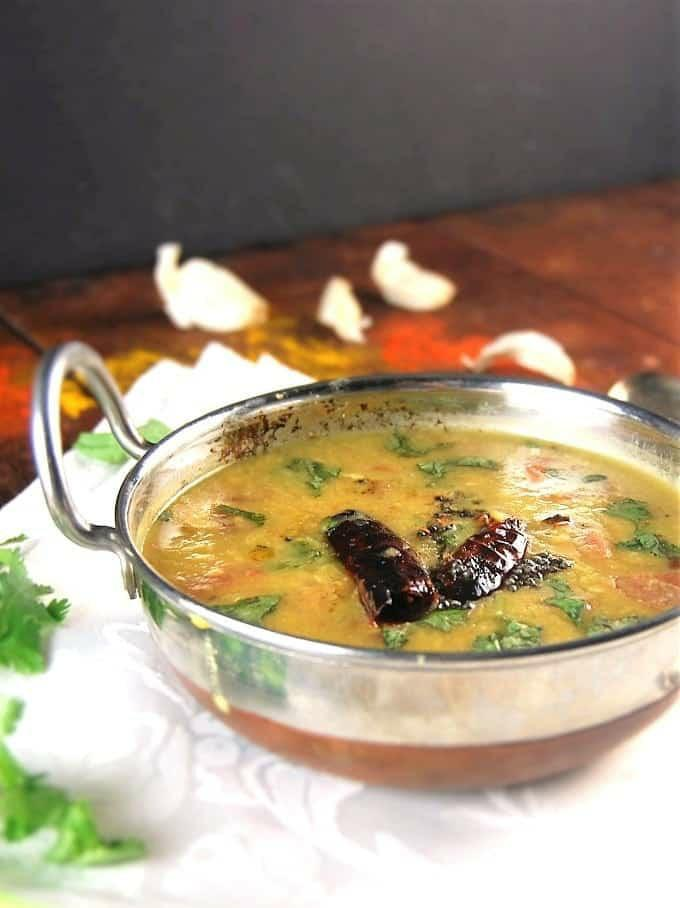Dal: (145, 428, 680, 651)
